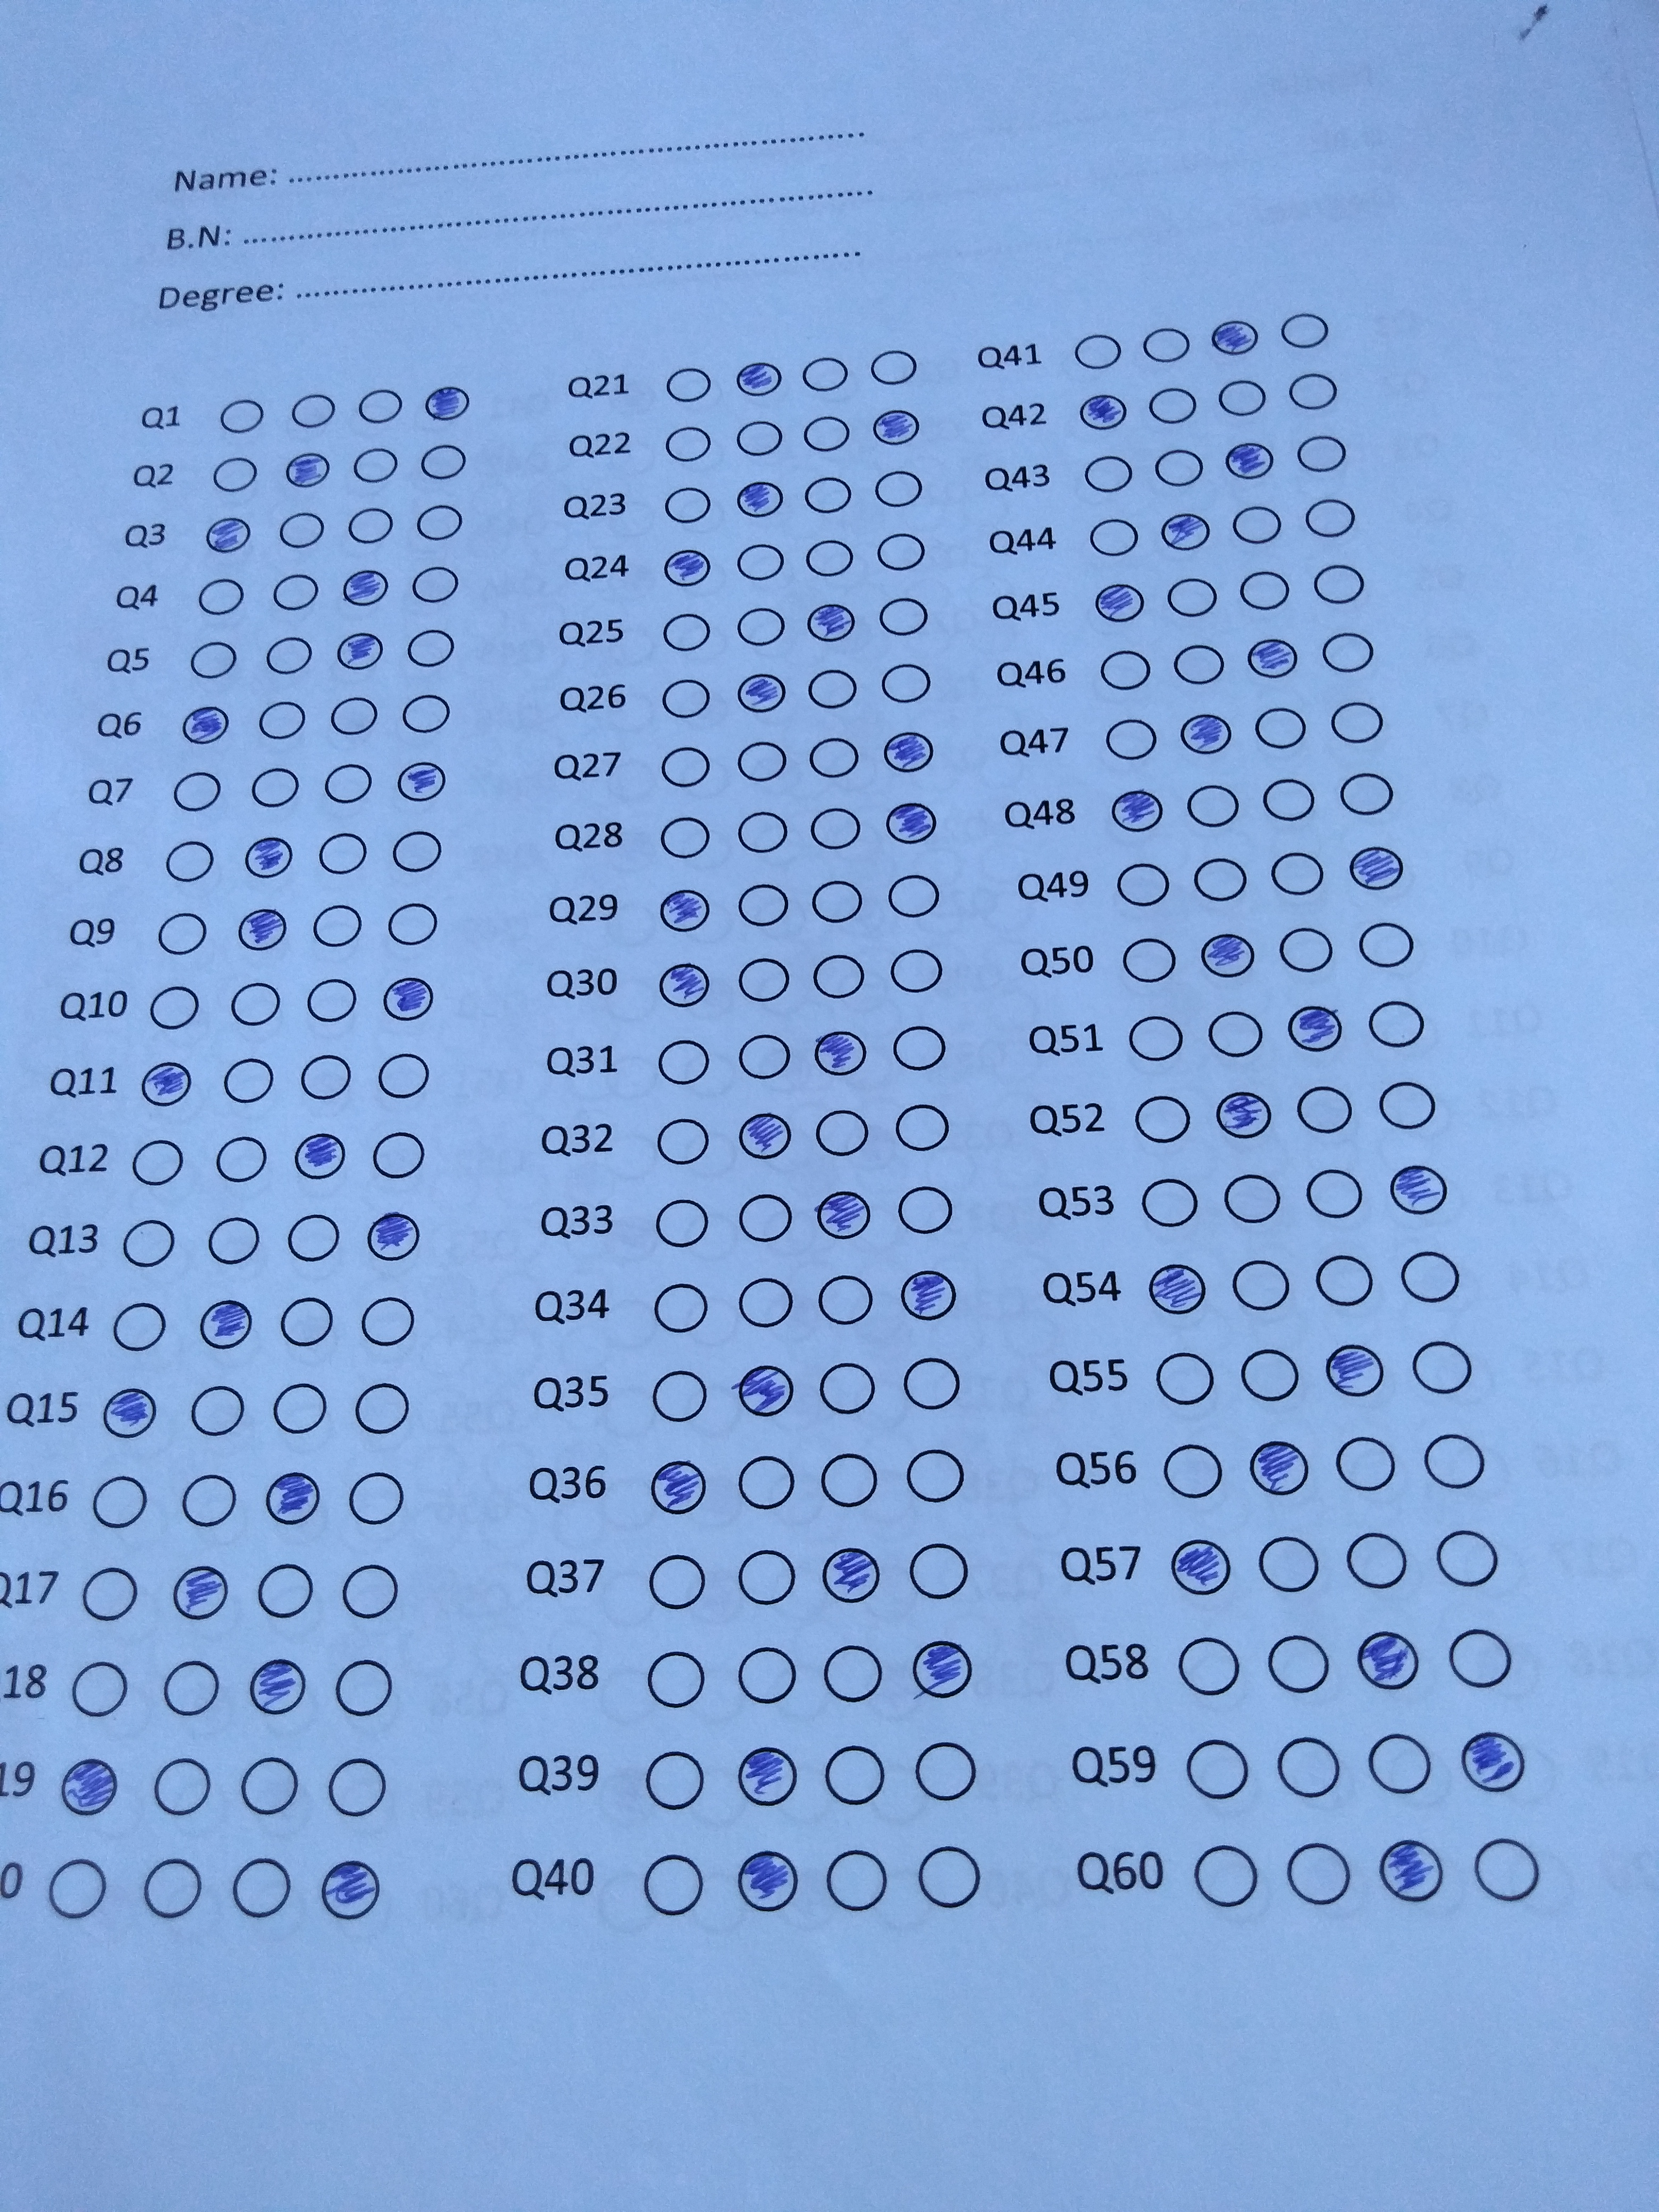not-c: (1434, 1524, 1511, 1595), (1441, 1623, 1518, 1695), (1283, 1838, 1358, 1909), (1469, 1832, 1544, 1904), (1361, 1726, 1436, 1797), (1270, 1733, 1345, 1804), (1182, 1733, 1256, 1804), (1263, 1630, 1338, 1702), (1251, 1531, 1326, 1602), (1340, 1529, 1415, 1601), (1419, 1425, 1493, 1496), (1157, 1437, 1232, 1508), (1232, 1339, 1307, 1411), (1405, 1332, 1480, 1404), (1396, 1245, 1471, 1317), (1223, 1251, 1298, 1322), (1187, 1843, 1263, 1912), (1147, 1343, 1223, 1413), (1173, 1632, 1248, 1702), (1326, 1432, 1401, 1501), (1310, 1249, 1385, 1318), (640, 1548, 713, 1618), (730, 1446, 803, 1515), (816, 1357, 889, 1426), (819, 1637, 890, 1707), (821, 1738, 892, 1808), (899, 1350, 971, 1420), (647, 1364, 718, 1433), (638, 1644, 711, 1712), (897, 1444, 971, 1512), (638, 1853, 709, 1921), (638, 1749, 709, 1817), (732, 1545, 803, 1613), (814, 1449, 885, 1517), (901, 1538, 972, 1606), (732, 1639, 803, 1707), (910, 1738, 981, 1806), (821, 1846, 892, 1914), (913, 1843, 985, 1911), (228, 1855, 293, 1921), (1295, 1080, 1361, 1144), (1352, 913, 1419, 977), (141, 1855, 204, 1923), (1204, 1001, 1269, 1066), (45, 1857, 108, 1923), (1136, 1172, 1202, 1235), (1222, 1169, 1288, 1231), (1303, 1165, 1370, 1228), (1373, 1078, 1439, 1141), (1364, 996, 1431, 1059), (1119, 930, 1185, 993), (1122, 1005, 1188, 1068), (1129, 1089, 1195, 1151), (335, 1656, 397, 1721), (239, 1754, 301, 1818), (1272, 920, 1337, 982), (153, 1757, 216, 1820), (326, 1757, 389, 1820), (68, 1655, 129, 1719), (652, 1277, 713, 1341), (162, 1658, 223, 1721), (734, 1273, 795, 1336), (816, 1270, 877, 1332), (650, 1197, 716, 1252), (890, 1183, 957, 1238), (112, 1298, 173, 1357), (275, 1291, 336, 1350), (357, 1294, 418, 1353), (350, 1379, 411, 1439), (268, 1379, 329, 1439), (178, 1472, 239, 1531), (80, 1566, 141, 1625), (256, 1561, 317, 1620), (338, 1562, 399, 1622), (730, 1190, 795, 1245), (345, 1470, 406, 1527), (188, 1381, 247, 1439), (89, 1475, 148, 1533), (652, 1115, 713, 1167), (383, 899, 443, 951), (143, 981, 202, 1033), (225, 977, 284, 1029), (301, 975, 361, 1028), (213, 1132, 272, 1184), (368, 1132, 427, 1184), (284, 1212, 343, 1264), (204, 1214, 263, 1266), (1260, 777, 1321, 827), (1293, 430, 1354, 481), (1284, 371, 1345, 421), (889, 1024, 950, 1075), (812, 1108, 873, 1158), (375, 1049, 432, 1101), (298, 1050, 355, 1103), (218, 1057, 275, 1109), (129, 1136, 186, 1188), (122, 1216, 179, 1268), (1114, 860, 1173, 911), (1188, 855, 1248, 906), (1267, 850, 1326, 900), (1185, 782, 1244, 833), (1337, 772, 1396, 822), (1328, 698, 1387, 749), (1321, 632, 1380, 683), (1309, 561, 1368, 611), (1302, 496, 1361, 547), (1276, 305, 1335, 355), (735, 1031, 795, 1082), (892, 1103, 951, 1153), (310, 900, 368, 951), (155, 907, 213, 958), (734, 881, 791, 930), (809, 878, 866, 927), (1253, 704, 1310, 752), (810, 954, 868, 1003), (734, 954, 791, 1003), (655, 1036, 713, 1085), (885, 871, 941, 920), (890, 948, 946, 996), (657, 815, 714, 862), (657, 745, 714, 792), (657, 611, 714, 658), (660, 484, 718, 531), (660, 423, 718, 470), (864, 345, 922, 392), (796, 409, 854, 456), (732, 415, 789, 462), (798, 470, 856, 517), (871, 529, 929, 577), (800, 535, 857, 582), (875, 592, 932, 639), (805, 735, 863, 782), (734, 738, 791, 786), (732, 808, 789, 855), (1162, 575, 1222, 620), (1171, 643, 1230, 688), (1098, 648, 1157, 693), (1100, 718, 1159, 763), (164, 838, 220, 885), (389, 827, 444, 874), (659, 676, 714, 723), (796, 354, 852, 401), (871, 465, 927, 512), (734, 538, 789, 585), (732, 603, 788, 650), (805, 667, 861, 714), (807, 806, 863, 853), (314, 831, 371, 876), (659, 364, 716, 409), (877, 660, 934, 705), (1236, 568, 1293, 613), (1143, 383, 1202, 427), (1148, 446, 1208, 489), (413, 502, 469, 547), (1140, 324, 1197, 368), (1082, 453, 1140, 496), (1229, 503, 1286, 547), (1070, 333, 1129, 374), (1211, 378, 1270, 420), (1084, 517, 1143, 559), (343, 503, 397, 549), (171, 770, 225, 815), (185, 639, 240, 683), (324, 695, 380, 738), (254, 698, 310, 742), (408, 563, 462, 606), (270, 570, 324, 613), (193, 577, 247, 620), (261, 636, 315, 679), (404, 627, 458, 671), (397, 693, 451, 737), (249, 766, 303, 810), (322, 761, 376, 805), (216, 397, 265, 439), (289, 392, 338, 434), (359, 387, 408, 428), (350, 444, 399, 486), (420, 442, 469, 484), (211, 455, 260, 496), (279, 509, 328, 550)
taken-c: (1375, 1838, 1448, 1909), (1354, 1630, 1427, 1702), (1161, 1533, 1234, 1604), (1457, 1728, 1530, 1797), (1241, 1435, 1312, 1503), (317, 1857, 385, 1925), (244, 1655, 312, 1723), (167, 1559, 235, 1627), (261, 1467, 329, 1534), (58, 1757, 125, 1824), (734, 1848, 802, 1914), (735, 1743, 800, 1808), (819, 1543, 884, 1606), (911, 1641, 976, 1703), (1349, 838, 1413, 900), (1323, 1341, 1389, 1402), (1387, 1160, 1452, 1221), (1143, 1258, 1208, 1318), (1211, 1089, 1276, 1150), (1283, 996, 1347, 1057), (1194, 927, 1258, 988), (101, 1383, 160, 1447), (737, 1362, 798, 1423), (647, 1458, 708, 1519), (197, 1296, 256, 1359), (136, 1054, 199, 1113), (362, 1211, 425, 1268), (289, 1127, 352, 1184), (378, 972, 441, 1029), (230, 902, 291, 960), (816, 1188, 875, 1244), (899, 1268, 958, 1324), (1243, 631, 1305, 683), (653, 960, 713, 1012), (1108, 784, 1168, 836), (1178, 709, 1239, 759), (1089, 580, 1150, 631), (737, 1111, 795, 1163), (810, 1028, 870, 1078), (655, 888, 714, 937), (240, 834, 298, 883), (392, 759, 450, 808), (340, 563, 397, 611), (1073, 392, 1134, 437), (179, 700, 235, 749), (333, 627, 389, 676), (199, 516, 254, 564), (282, 449, 338, 498), (1155, 510, 1215, 556), (1218, 437, 1277, 482), (1208, 317, 1267, 362), (420, 383, 476, 430), (882, 730, 938, 777), (884, 801, 939, 848), (805, 601, 861, 646), (734, 672, 789, 718), (734, 479, 786, 523), (664, 547, 716, 590), (730, 359, 784, 401), (870, 408, 924, 449)
